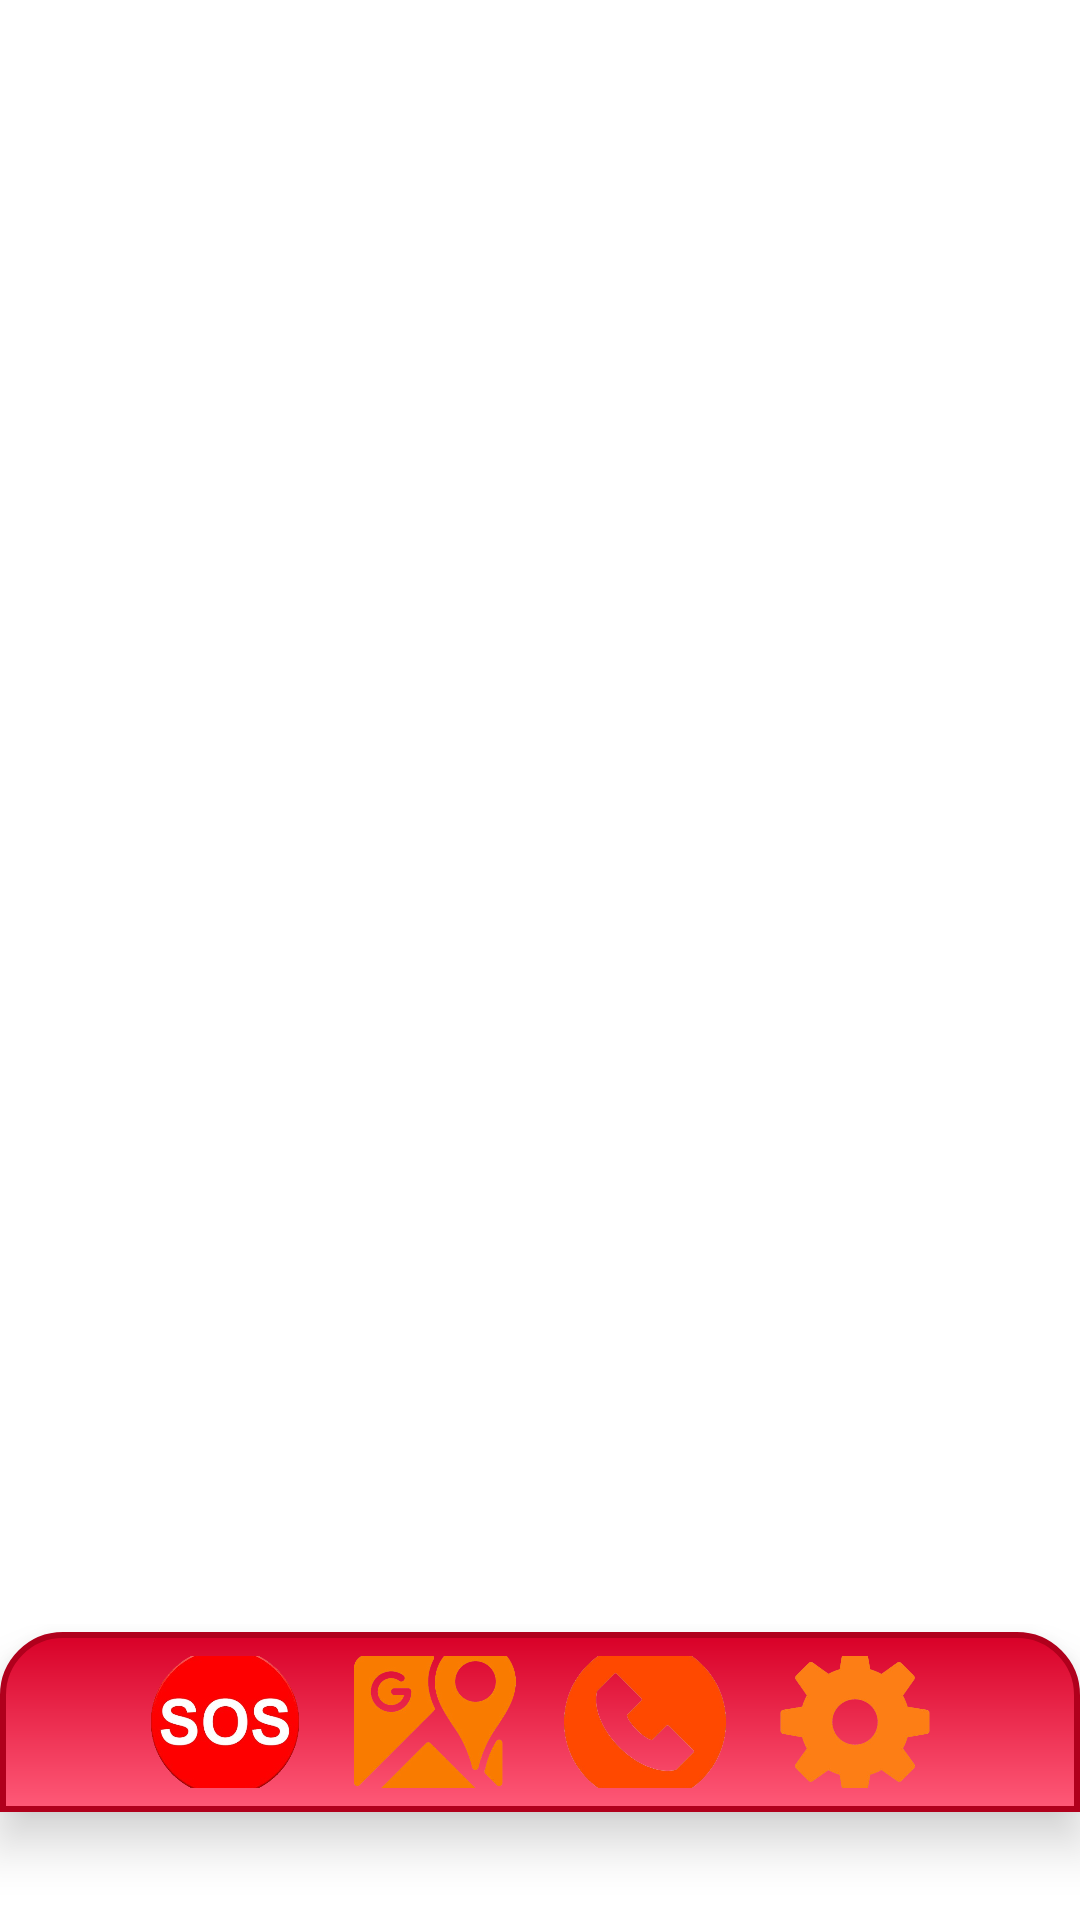

Icons on this 1080x1920 Android screen, each with the point to tap as [x,y]:
Calls: [645,1722]
Settings: [855,1722]
